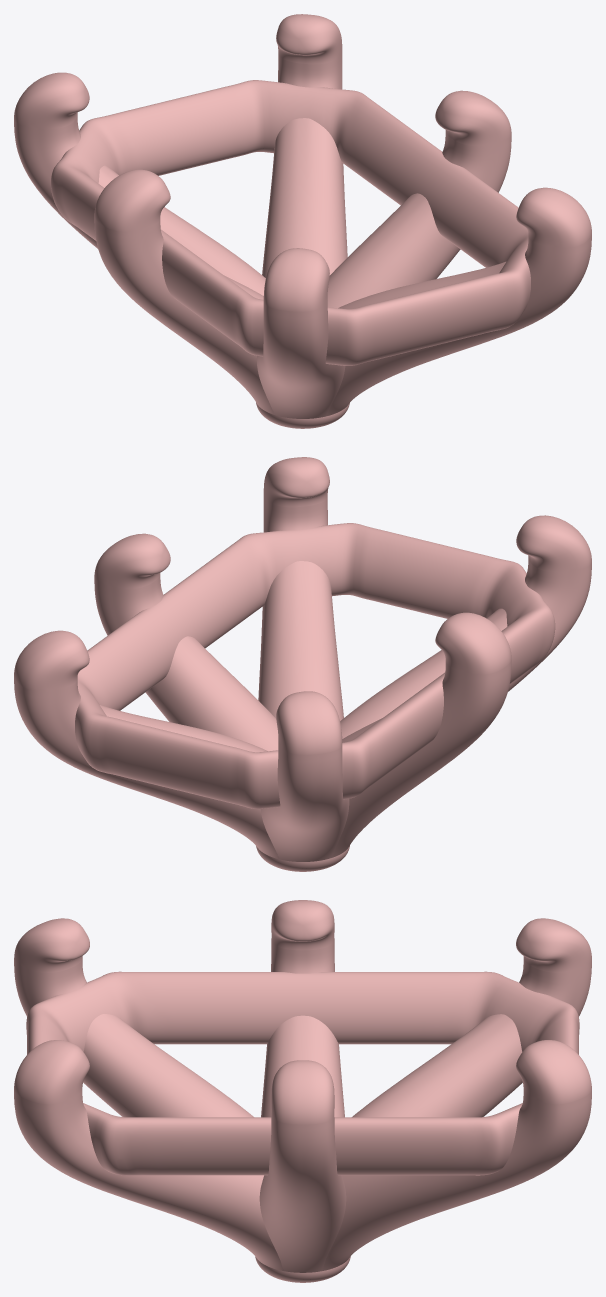
The model's file is EMERALD.glb.
3 renders of one model, top to bottom at view 1: azimuth 30°, elevation 25°; view 2: azimuth 150°, elevation 25°; view 3: azimuth 270°, elevation 25°, orthographic.
Visible parts, largest first — view 1: emerald.001; view 2: emerald.001; view 3: emerald.001.
Part boxes in pixels (bbox=[...]): emerald.001: bbox=[14, 14, 591, 428]; emerald.001: bbox=[14, 457, 591, 871]; emerald.001: bbox=[14, 900, 591, 1282].
Bounding box in the file's own units: 6.41 × 4.3 × 7.8.
